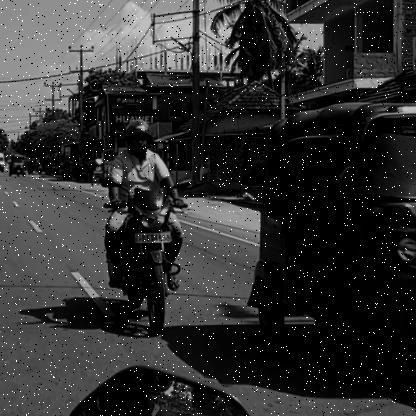motorcycle: (95, 187, 198, 345)
